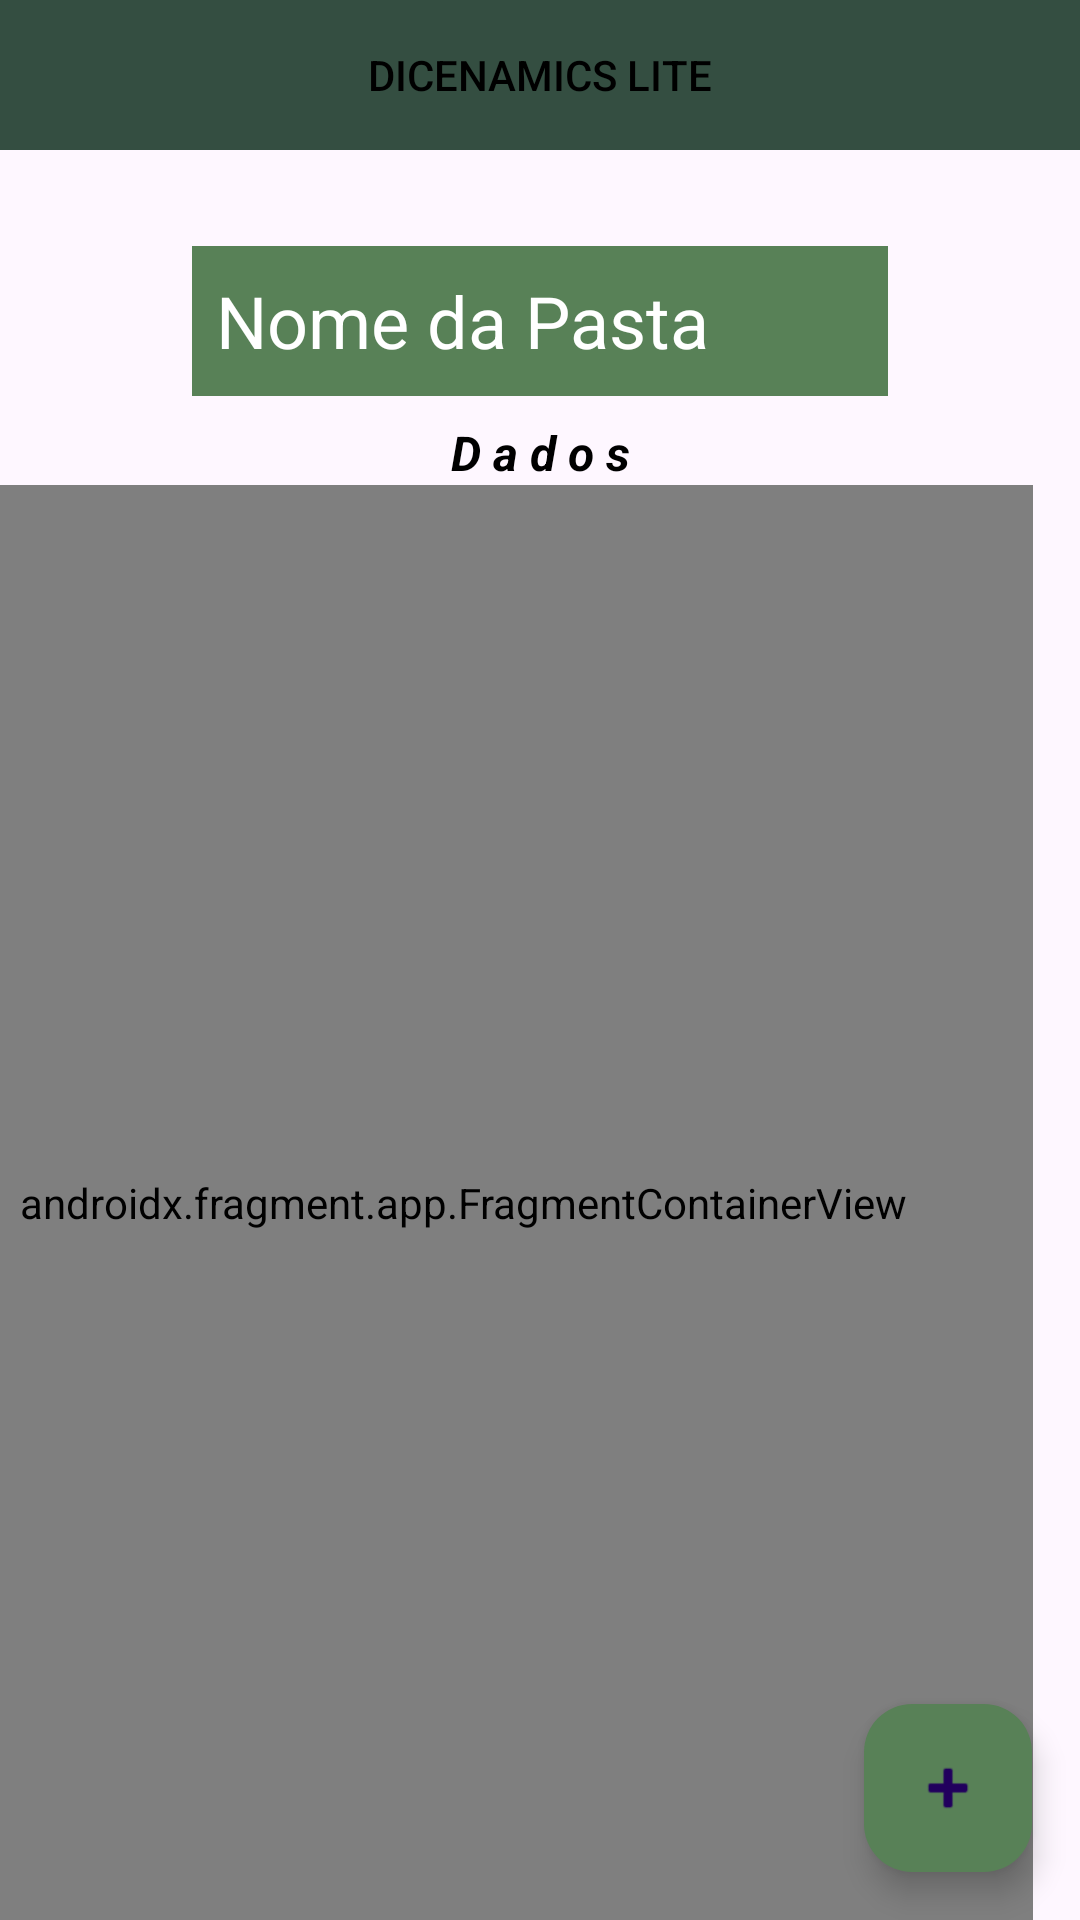

Icon click points for this 1080px x 1920px phone screenshot, format [x,y]:
add: [948,1788]
